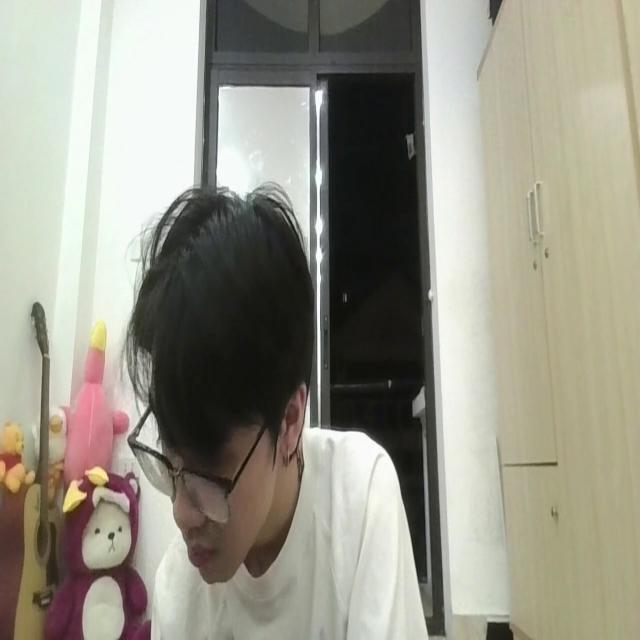student: (126, 172, 415, 640)
